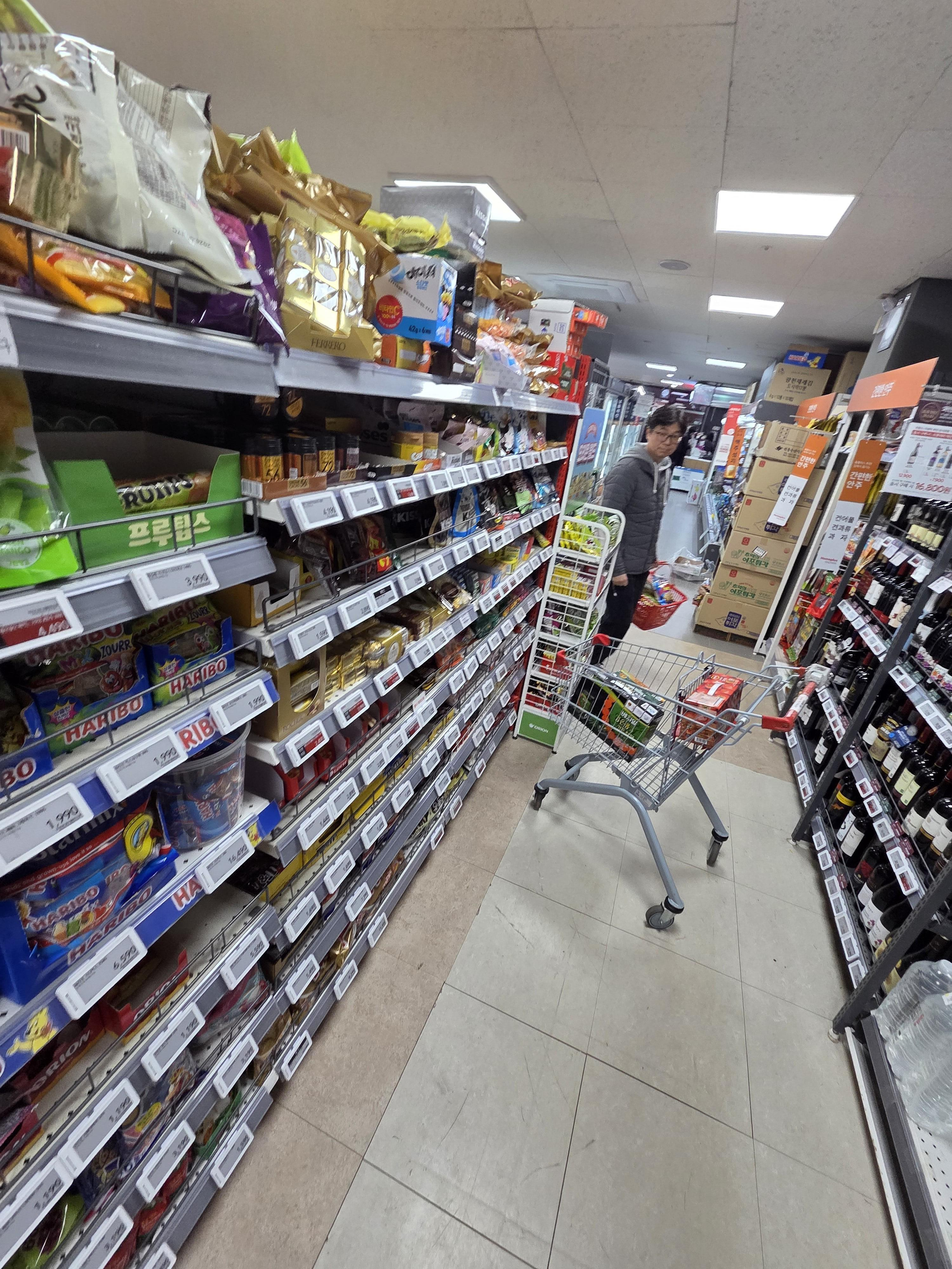fully_cart: (517, 626, 842, 947)
